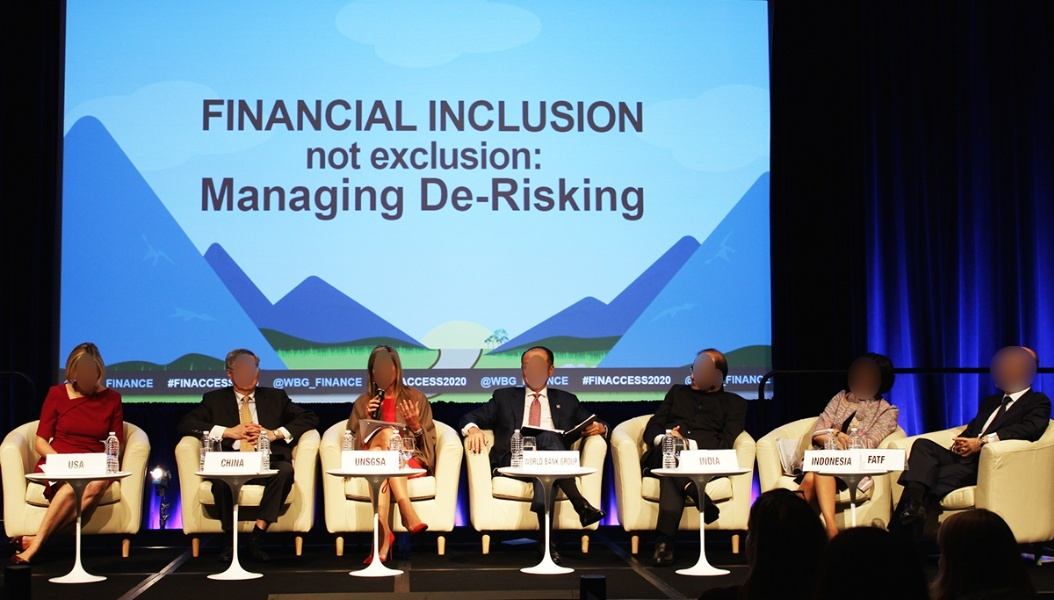text: (209, 176, 224, 222), (225, 176, 240, 222), (241, 176, 256, 222), (257, 176, 272, 222), (273, 176, 288, 222), (289, 176, 304, 222), (305, 176, 320, 222), (321, 176, 336, 222), (337, 176, 352, 222), (353, 176, 368, 222), (369, 176, 384, 222), (385, 176, 400, 222), (433, 176, 448, 222), (449, 176, 464, 222), (465, 176, 480, 222), (481, 176, 496, 222), (497, 176, 512, 222), (513, 176, 528, 222), (529, 176, 544, 222), (545, 176, 560, 222), (561, 176, 576, 222), (577, 176, 592, 222), (593, 176, 608, 222), (609, 176, 624, 222), (625, 176, 640, 222), (419, 176, 432, 222), (209, 99, 224, 132), (225, 99, 240, 132), (241, 99, 256, 132), (257, 99, 272, 132), (273, 99, 288, 132), (289, 99, 304, 132), (305, 99, 320, 132), (321, 99, 336, 132), (337, 99, 352, 132), (353, 99, 368, 132), (369, 99, 384, 132), (385, 99, 400, 132), (401, 99, 416, 132), (433, 100, 448, 133), (449, 100, 464, 133), (465, 100, 480, 133), (481, 100, 496, 133), (497, 100, 512, 133), (513, 100, 528, 133), (529, 100, 544, 133), (545, 100, 560, 133), (561, 100, 576, 133), (577, 100, 592, 133), (593, 100, 608, 133), (609, 100, 624, 133), (625, 100, 640, 133), (369, 141, 384, 171), (385, 141, 400, 171), (401, 141, 416, 171), (417, 141, 432, 171), (433, 141, 448, 171), (449, 141, 464, 171), (465, 141, 480, 171), (481, 141, 496, 171), (497, 141, 512, 171), (513, 141, 528, 171), (321, 142, 336, 170), (337, 142, 352, 170), (306, 142, 320, 170), (529, 141, 542, 171), (201, 176, 208, 222), (353, 142, 363, 170), (481, 375, 496, 390), (497, 375, 512, 390), (273, 377, 288, 390), (289, 377, 304, 390), (305, 377, 320, 390), (321, 377, 336, 390), (337, 377, 352, 390), (401, 176, 405, 222), (203, 99, 208, 132), (177, 378, 192, 389), (193, 378, 208, 389), (209, 378, 224, 389), (417, 376, 432, 387), (433, 376, 448, 387), (449, 376, 464, 387), (113, 379, 128, 389), (129, 379, 144, 389), (369, 457, 384, 467), (354, 457, 368, 467), (641, 176, 644, 222), (593, 376, 608, 385), (609, 376, 624, 385), (625, 376, 640, 385), (641, 376, 656, 385), (657, 376, 672, 385), (225, 459, 240, 468), (705, 457, 720, 466), (817, 457, 832, 466), (833, 457, 848, 466), (737, 376, 752, 385), (428, 100, 432, 133), (353, 377, 363, 390), (547, 376, 560, 386), (529, 457, 543, 466), (405, 376, 416, 387), (561, 458, 576, 466), (67, 461, 80, 470), (545, 458, 559, 466), (753, 376, 765, 385), (867, 456, 880, 464), (167, 378, 176, 389), (725, 376, 736, 385), (145, 379, 154, 389), (582, 376, 592, 385), (561, 376, 570, 386), (513, 375, 518, 390), (641, 100, 643, 133), (106, 379, 112, 389), (810, 457, 816, 466), (81, 461, 86, 470), (699, 457, 704, 466), (225, 378, 229, 389), (881, 456, 886, 464), (220, 459, 224, 468), (241, 459, 245, 468), (524, 457, 528, 466), (417, 99, 418, 132), (849, 457, 852, 466), (465, 376, 467, 387), (385, 457, 387, 467), (721, 457, 722, 466), (543, 458, 544, 466), (577, 458, 578, 466)
